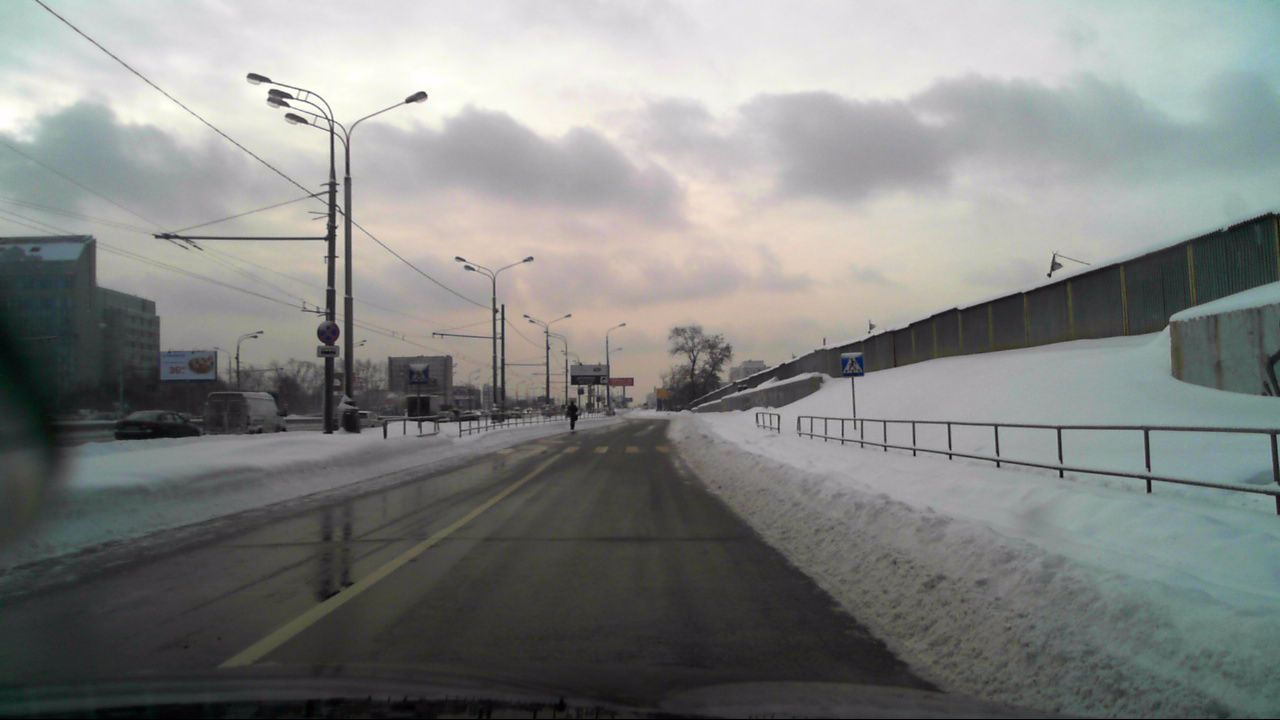No Parking: (316, 321, 340, 346)
